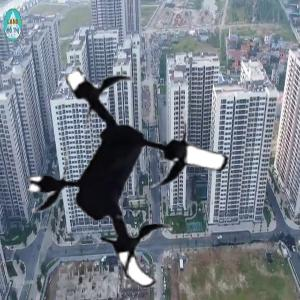drone: (16, 60, 250, 294)
